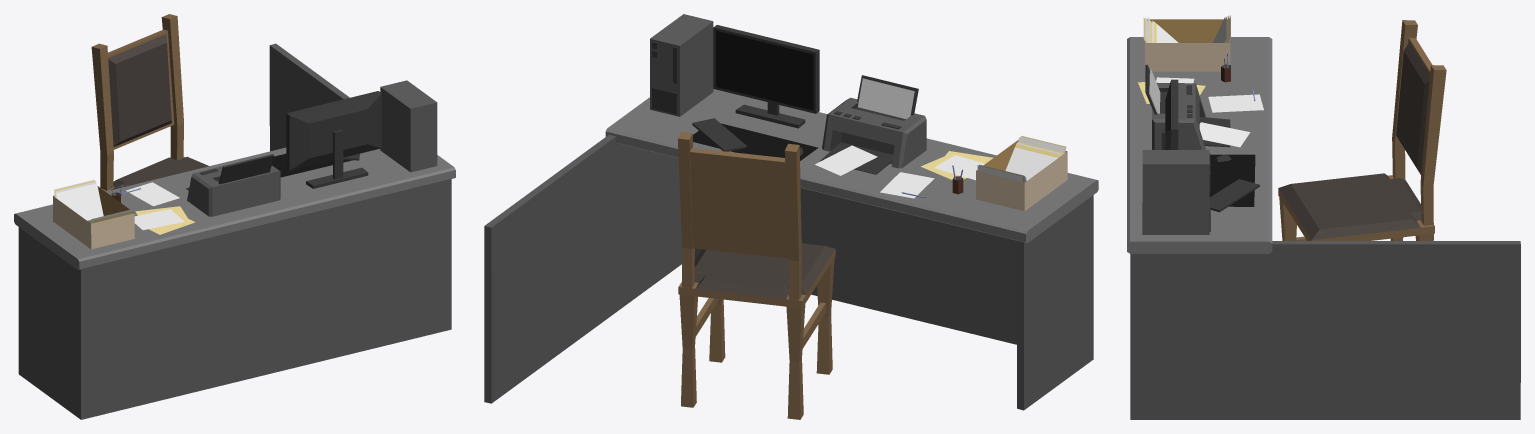
File: ReceptionDeskPD.glb
3 views of the same model, side by side, from view 1: azimuth 30°, elevation 25°; view 2: azimuth 150°, elevation 25°; view 3: azimuth 270°, elevation 25° (orthographic). The views are drawn at different scales.
Visible parts, largest first — view 1: ReceptionDesk, BasicChair; view 2: ReceptionDesk, BasicChair; view 3: ReceptionDesk, BasicChair.
Part boxes in pixels (x1,y1,x2,y2): ReceptionDesk: [14, 43, 455, 419]; BasicChair: [91, 14, 209, 191]; ReceptionDesk: [484, 14, 1098, 410]; BasicChair: [678, 131, 835, 419]; ReceptionDesk: [1127, 15, 1520, 419]; BasicChair: [1278, 20, 1446, 240].
Size of the model in its own units: 2.09 by 1.31 by 1.7.
1 material, 1 textured.
